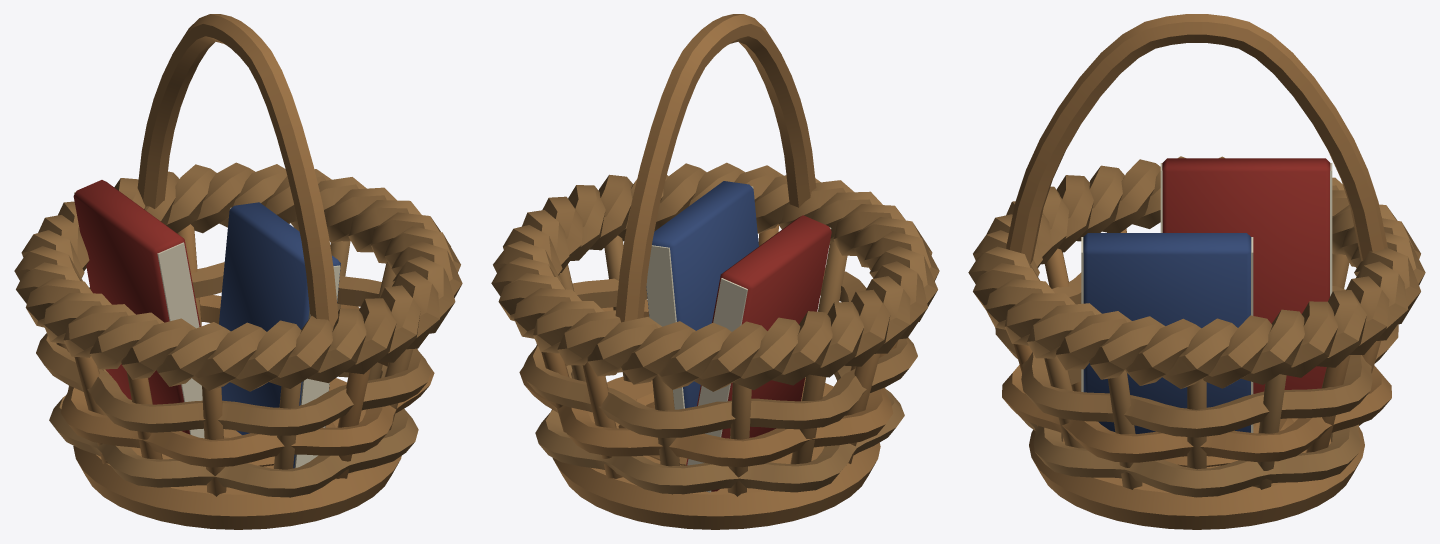
File: library_basket_2.glb
The picture shows the model from 3 angles, left to right: view 1: azimuth 30°, elevation 25°; view 2: azimuth 150°, elevation 25°; view 3: azimuth 270°, elevation 25°; orthographic projection.
Parts seen in each view (by area): view 1: Sammel Stoff, Sammel Lack; view 2: Sammel Stoff, Sammel Lack; view 3: Sammel Stoff, Sammel Lack.
Part boxes in pixels (x1=…): Sammel Stoff: x1=14, y1=14, x2=462, y2=529; Sammel Lack: x1=74, y1=192, x2=340, y2=467; Sammel Stoff: x1=491, y1=14, x2=939, y2=529; Sammel Lack: x1=646, y1=186, x2=831, y2=492; Sammel Stoff: x1=968, y1=14, x2=1425, y2=529; Sammel Lack: x1=1081, y1=163, x2=1332, y2=432.
Size of the model in its own units: 0.185 by 0.1998 by 0.185.
